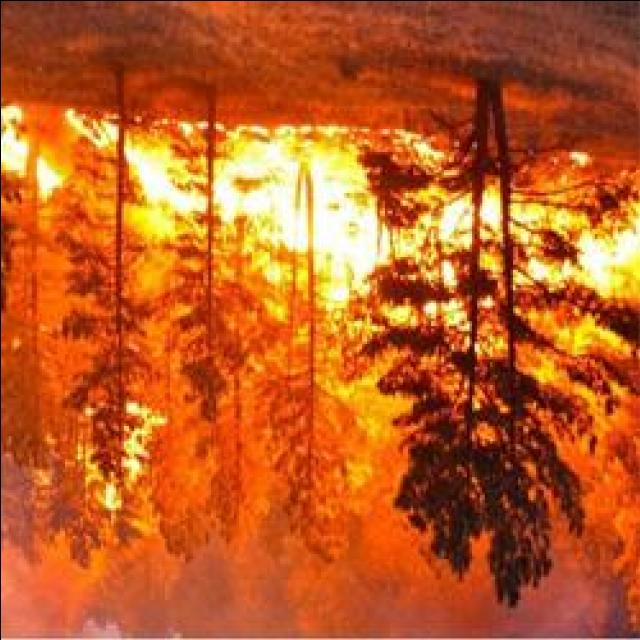fire: (211, 120, 372, 310), (4, 103, 72, 195), (110, 398, 167, 499)
